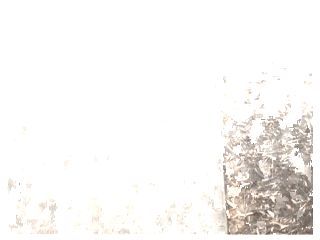Edge: (217, 5, 230, 231)
